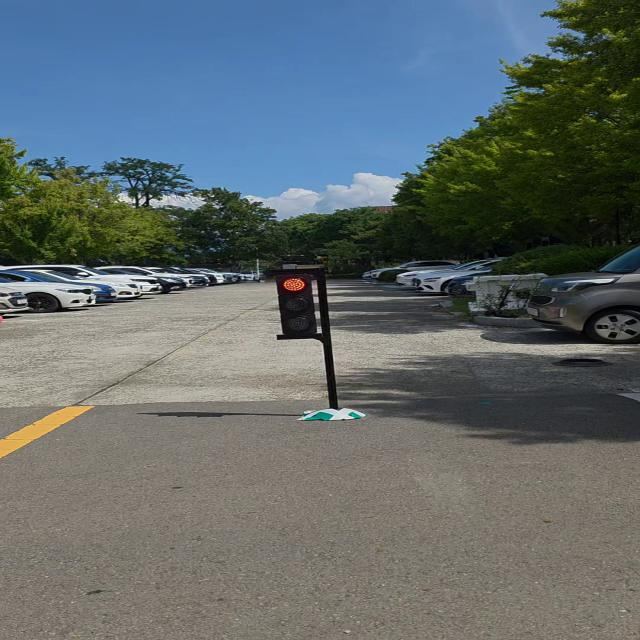red: (262, 267, 332, 339)
